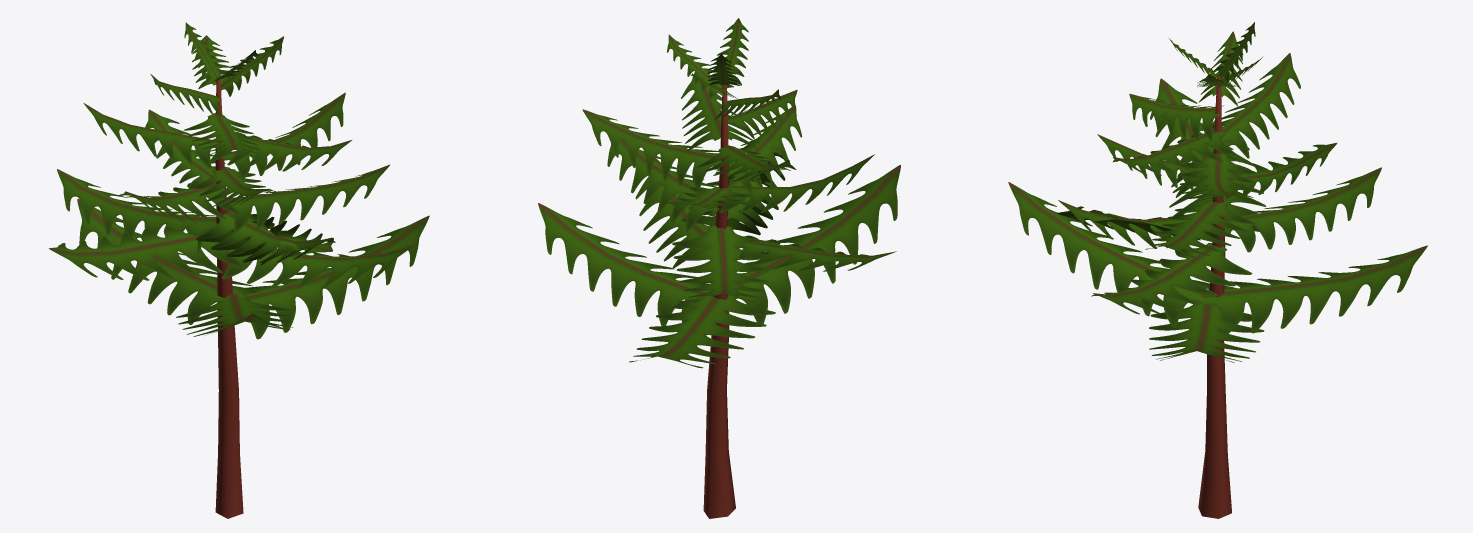
Rendered from SMFol_YoungRedwood_Resource.fbx.
3 renders of one model, left to right at view 1: azimuth 30°, elevation 25°; view 2: azimuth 150°, elevation 25°; view 3: azimuth 270°, elevation 25°, orthographic.
Parts seen in each view (by area): view 1: SMFol_Redwood; view 2: SMFol_Redwood; view 3: SMFol_Redwood.
Part boxes in pixels (left/top/right/bottom): SMFol_Redwood: left=49, top=22, right=429, bottom=518; SMFol_Redwood: left=538, top=18, right=900, bottom=518; SMFol_Redwood: left=1008, top=22, right=1427, bottom=518.
Bounding box in the file's own units: 403 × 473 × 429.
